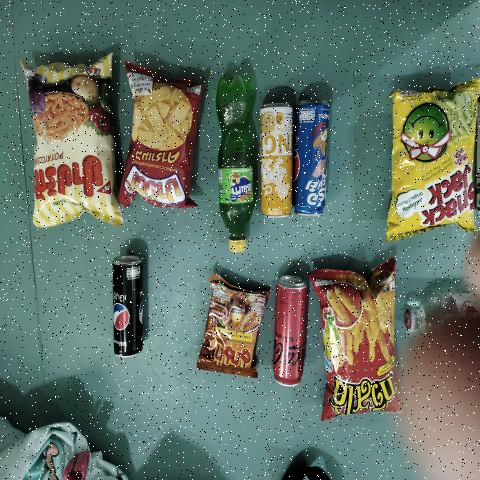coke_red: (271, 280, 305, 394)
fanta_green: (213, 66, 253, 256)
mama: (207, 290, 257, 376)
paprika: (29, 55, 113, 218)
party_red: (129, 72, 193, 209)
pepsi_black: (111, 260, 145, 359)
pepsi_blue: (298, 92, 330, 216)
singha_yellow: (260, 102, 290, 217)
snack_jack: (389, 89, 477, 230)
twisco: (327, 278, 390, 408)
